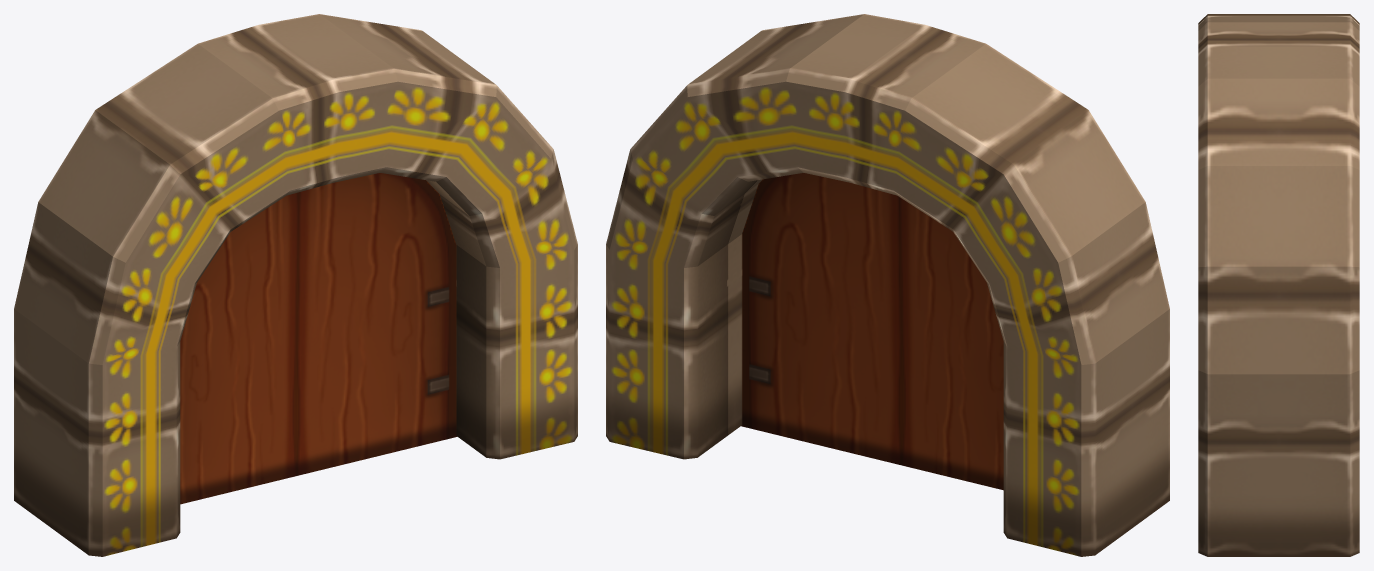
File: Gate_03.FBX
3 views of the same model, side by side, from view 1: azimuth 30°, elevation 25°; view 2: azimuth 150°, elevation 25°; view 3: azimuth 270°, elevation 25° (orthographic). The views are drawn at different scales.
Visible parts, largest first — view 1: Gate_03; view 2: Gate_03; view 3: Gate_03.
Boxes of the visible parts, bbox=[...] form: Gate_03: bbox=[14, 14, 577, 556]; Gate_03: bbox=[606, 14, 1169, 556]; Gate_03: bbox=[1198, 14, 1359, 556].
Size of the model in its own units: 0.8647 by 0.7043 by 0.2597.
